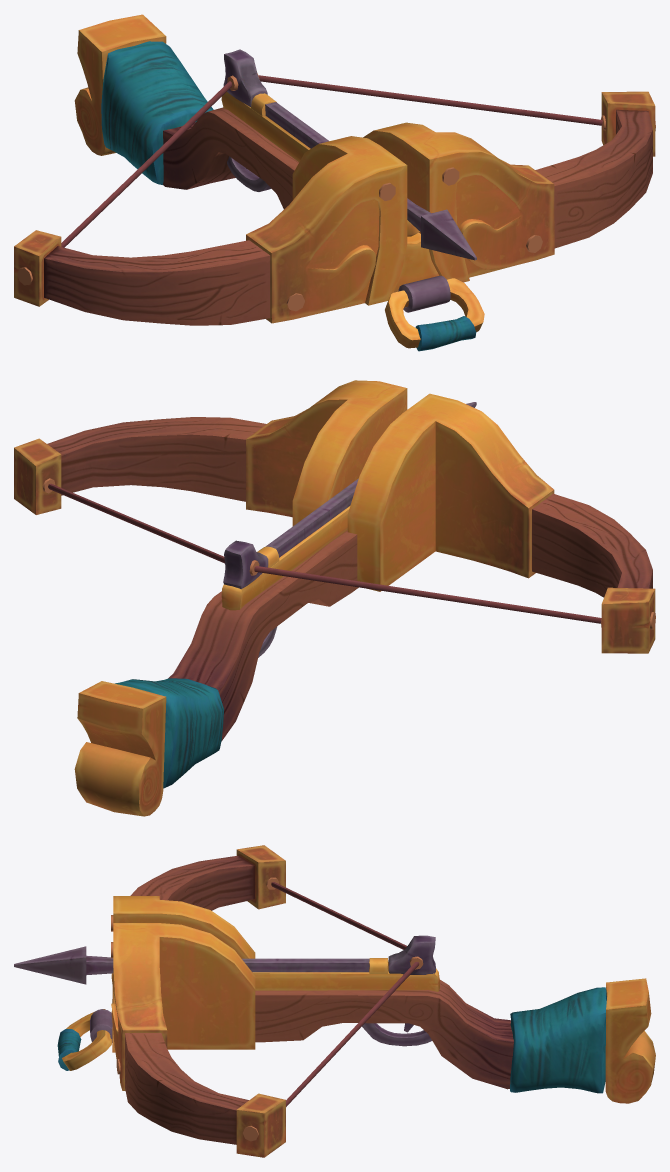
Rendered from Crossbow.fbx.
3 renders of one model, top to bottom at view 1: azimuth 30°, elevation 25°; view 2: azimuth 150°, elevation 25°; view 3: azimuth 270°, elevation 25°, orthographic. The views are drawn at different scales.
Parts seen in each view (by area): view 1: Crossbow; view 2: Crossbow; view 3: Crossbow.
Boxes of the visible parts, <box> form: Crossbow: <box>14,14,655,351</box>; Crossbow: <box>14,380,655,816</box>; Crossbow: <box>14,845,655,1157</box>.
Bounding box in the file's own units: 690 × 210 × 698.
